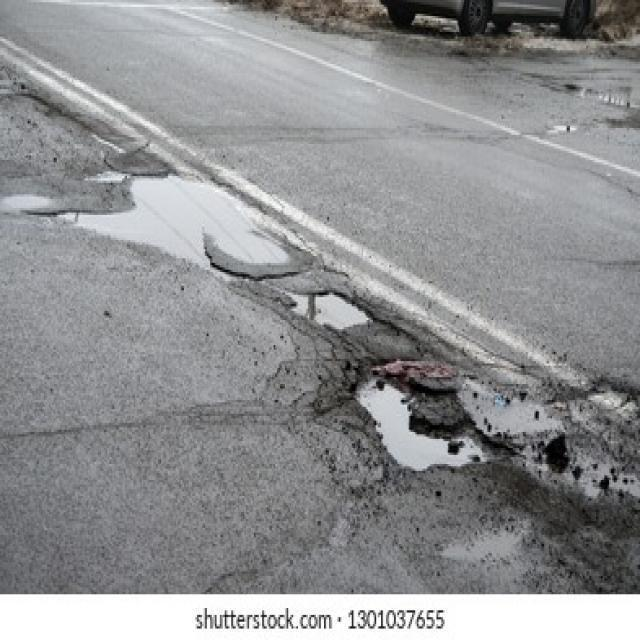pothole: (347, 352, 512, 473), (280, 284, 375, 332)
